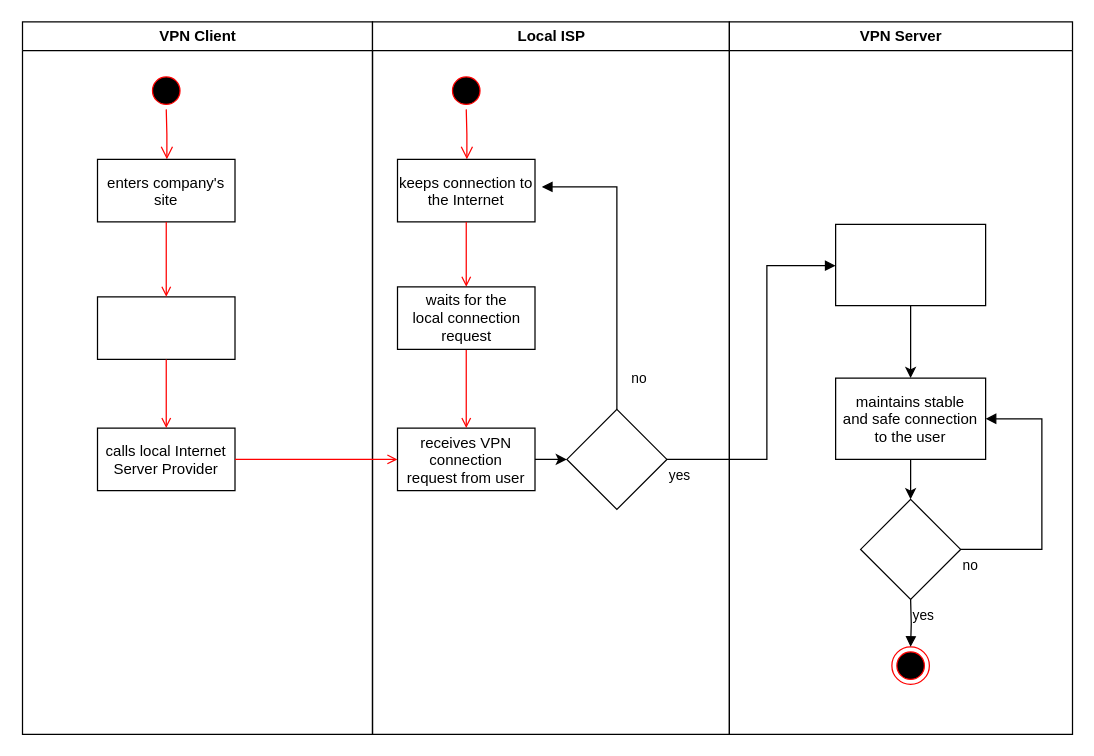
The diagram is 1094 pixels wide and 756 high, and some of its shapes have lost their labels. Each missing label, with the centre of its shape:
client logs out: point 910,548
logs into his/her working internal network: point 165,327
sends information to the ISP connected to LAN company's network: point 910,264
valid request: point 616,458
